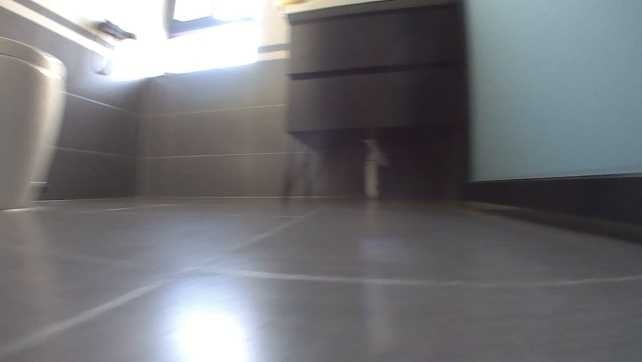toilet: (0, 35, 68, 211)
washstand: (272, 0, 463, 198)
